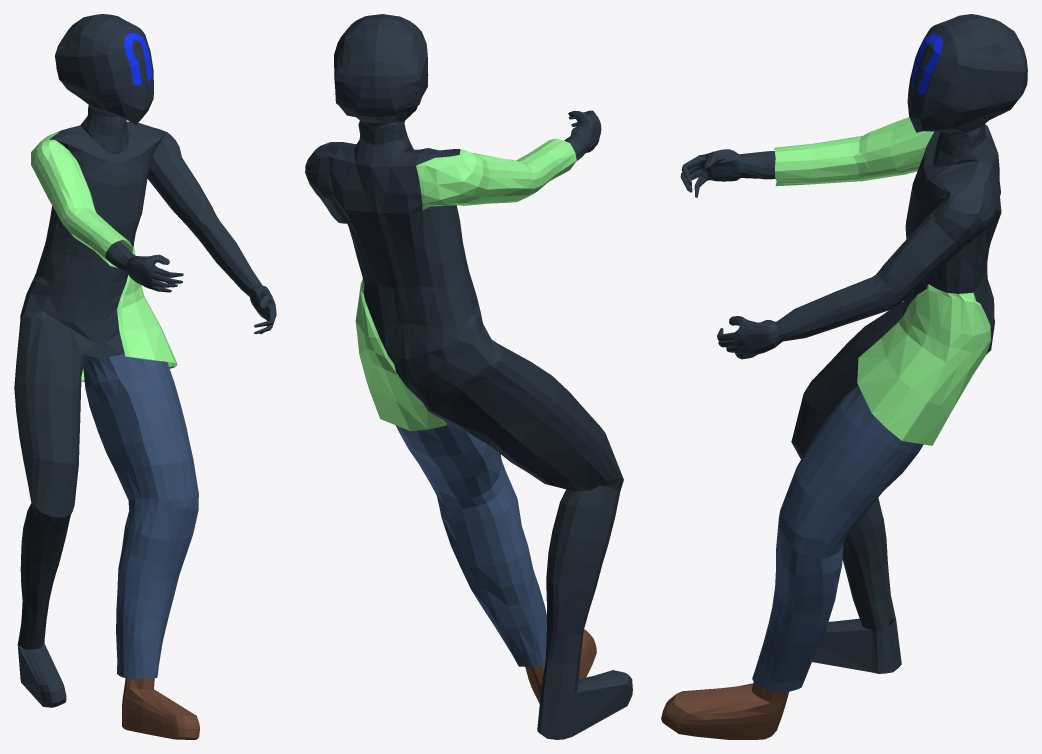
Rendered from Mar_Die_000006.obj.
The picture shows the model from 3 angles, left to right: view 1: azimuth 30°, elevation 25°; view 2: azimuth 150°, elevation 25°; view 3: azimuth 270°, elevation 25°; orthographic projection. The views are drawn at different scales.
Visible parts, largest first — view 1: Cube.000_Cube.001; view 2: Cube.000_Cube.001; view 3: Cube.000_Cube.001.
Part boxes in pixels (x1=…): Cube.000_Cube.001: x1=14, y1=14, x2=276, y2=739; Cube.000_Cube.001: x1=305, y1=14, x2=632, y2=739; Cube.000_Cube.001: x1=661, y1=14, x2=1027, y2=739.
Bounding box in the file's own units: 1.32 × 3.69 × 1.64.
